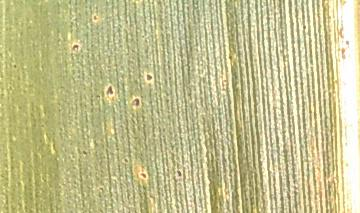tarspot: (104, 81, 116, 98), (172, 166, 186, 180), (70, 41, 80, 58), (130, 95, 142, 109), (224, 52, 239, 63), (137, 170, 150, 181), (120, 156, 133, 167), (89, 12, 101, 23), (144, 71, 154, 84), (79, 148, 90, 158), (9, 60, 18, 71), (299, 22, 309, 31)
